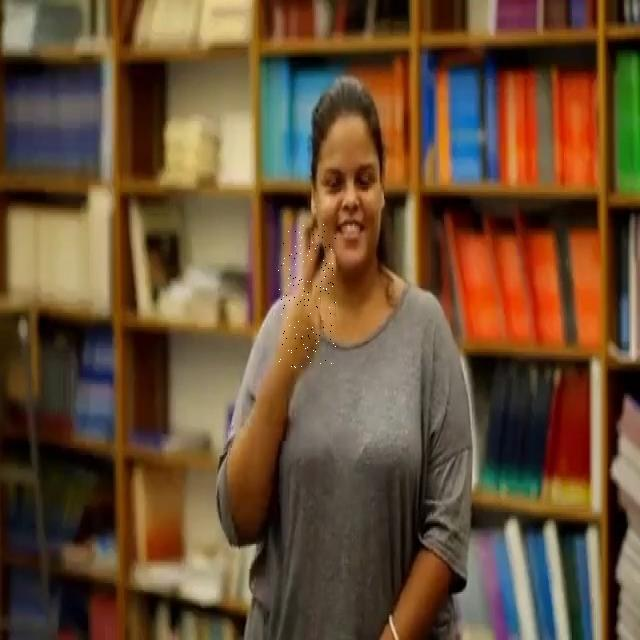vegetables: (278, 224, 336, 368)
